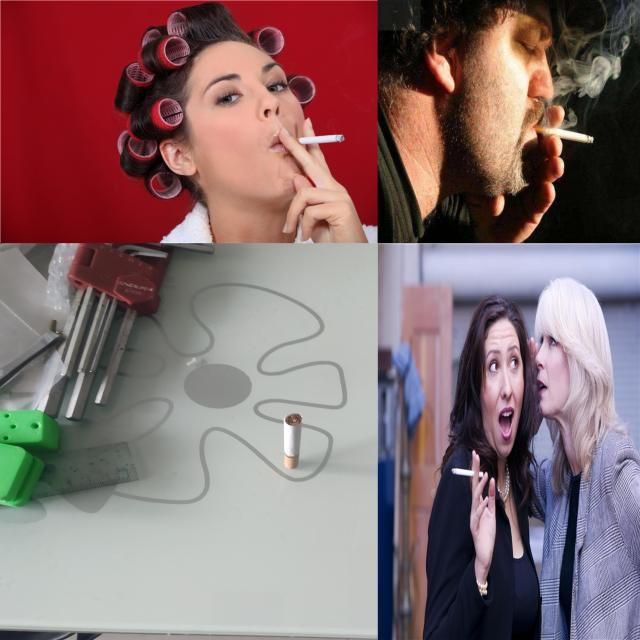smoking: (527, 122, 595, 144), (284, 413, 302, 470), (289, 133, 346, 146), (448, 464, 488, 478)
